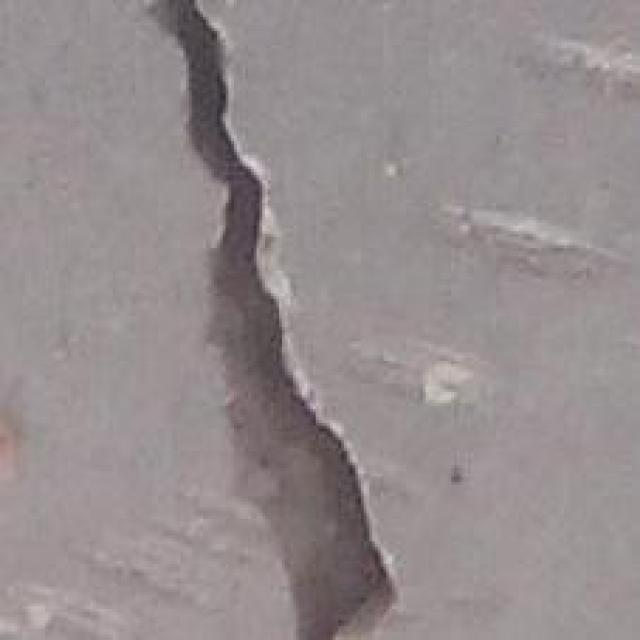Longitudinal: (139, 0, 406, 640)
